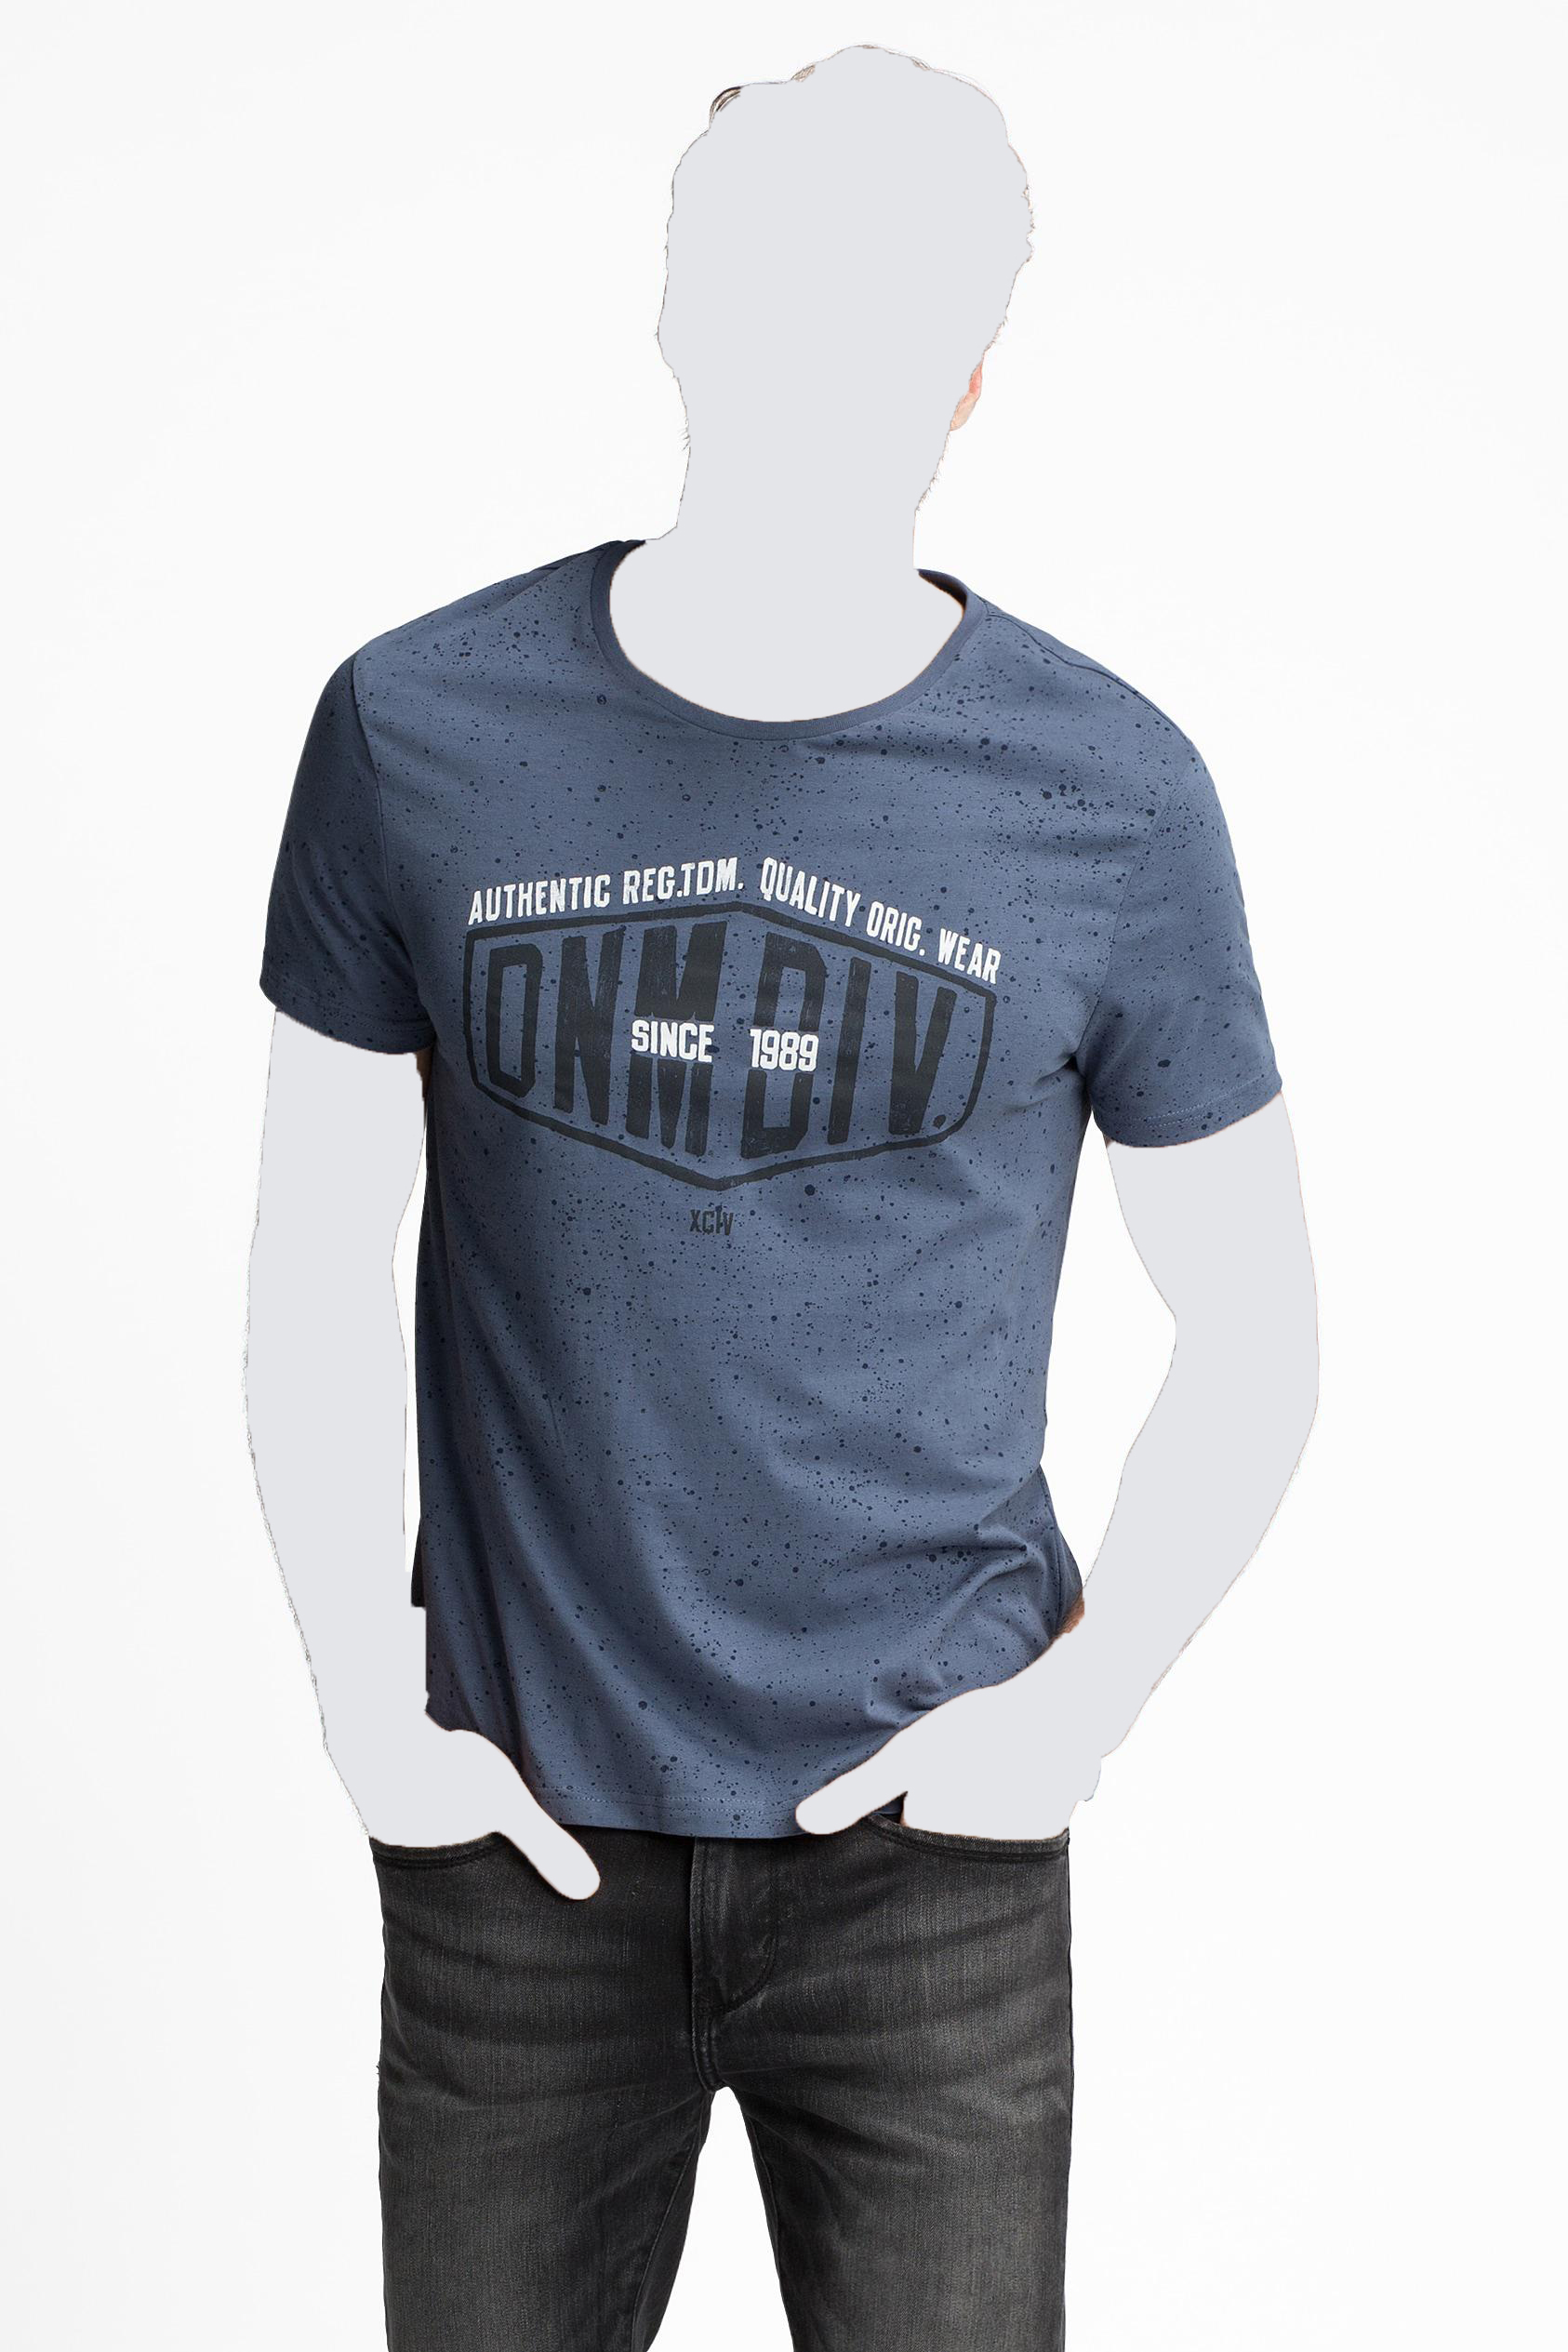teeshirt: (245, 532, 1321, 1844)
